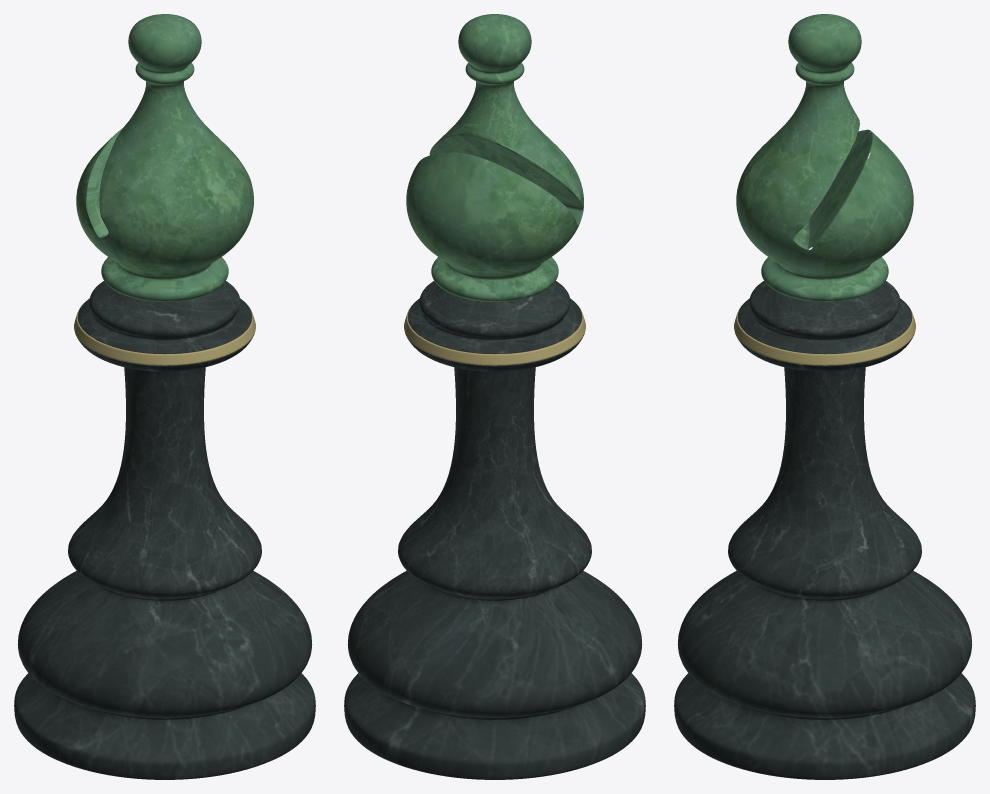
The model's file is B_Bishop.glb.
3 renders of one model, left to right at view 1: azimuth 30°, elevation 25°; view 2: azimuth 150°, elevation 25°; view 3: azimuth 270°, elevation 25°, orthographic.
Parts seen in each view (by area): view 1: Bishop_B1; view 2: Bishop_B1; view 3: Bishop_B1.
Part boxes in pixels (bbox=[...]): Bishop_B1: bbox=[14, 14, 315, 779]; Bishop_B1: bbox=[344, 14, 645, 779]; Bishop_B1: bbox=[674, 14, 975, 779].
Bounding box in the file's own units: 0.0486 × 0.124 × 0.0486.
1 material, 1 textured.
